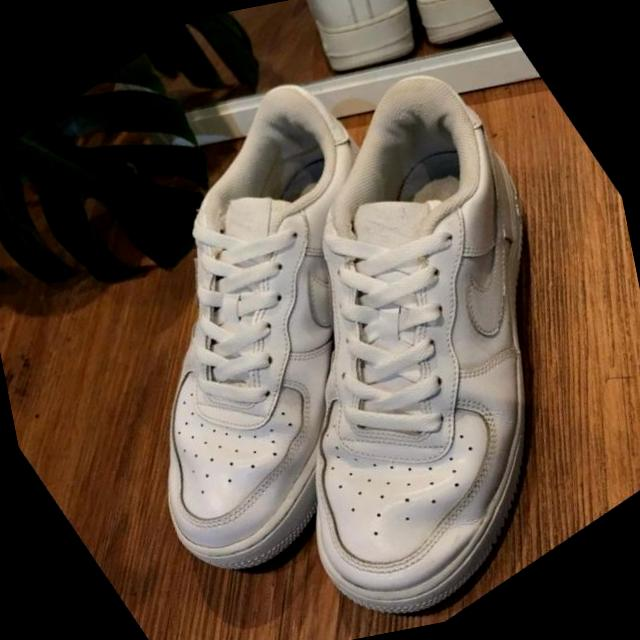nike_fake_airforce: (83, 13, 640, 640), (0, 40, 556, 632)
